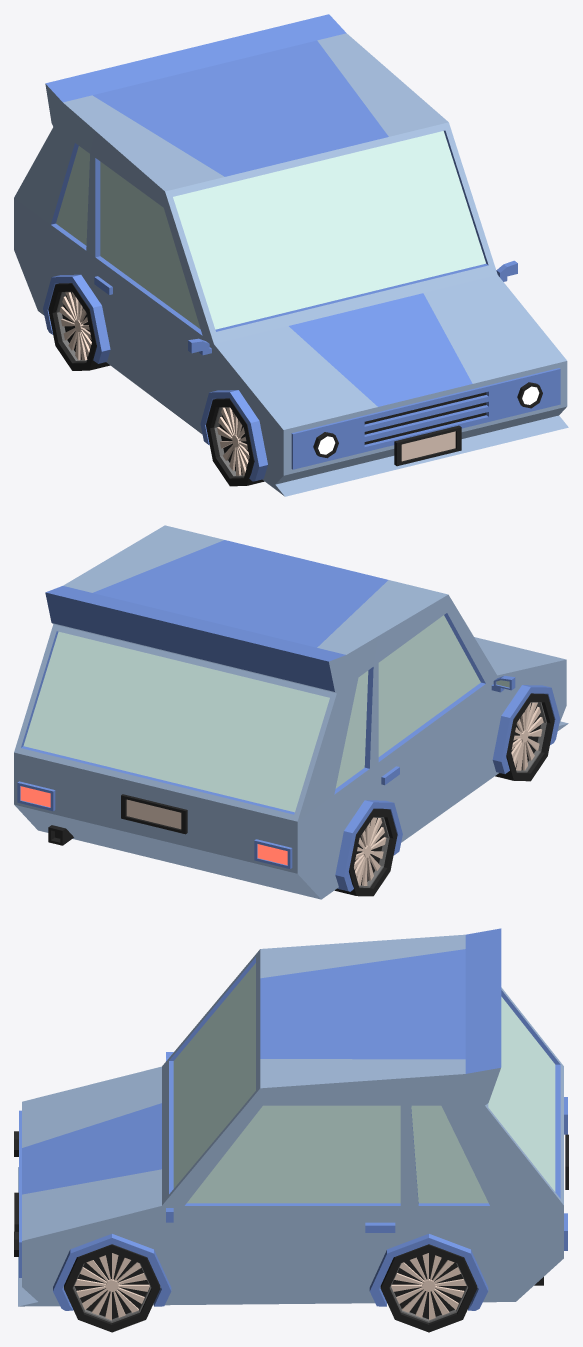
File: CocheChiquito_1.fbx
The picture shows the model from 3 angles, top to bottom: view 1: azimuth 30°, elevation 25°; view 2: azimuth 150°, elevation 25°; view 3: azimuth 270°, elevation 25°; orthographic projection.
Parts seen in each view (by area): view 1: small_car; view 2: small_car; view 3: small_car.
Boxes of the visible parts, left/top/right/bottom form: small_car: left=14, top=14, right=568, bottom=496; small_car: left=14, top=525, right=568, bottom=899; small_car: left=14, top=928, right=568, bottom=1332.
Size of the model in its own units: 166 by 126 by 243.
